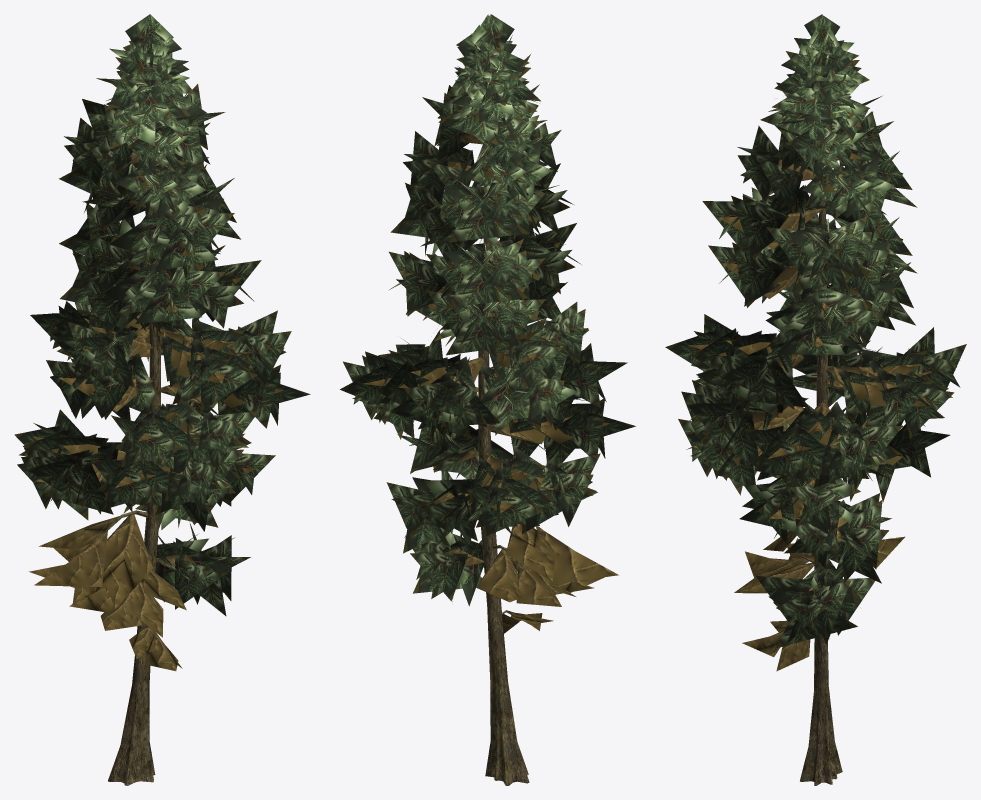
Rendered from PineBig2.fbx.
3 views of the same model, side by side, from view 1: azimuth 30°, elevation 25°; view 2: azimuth 150°, elevation 25°; view 3: azimuth 270°, elevation 25° (orthographic).
Parts seen in each view (by area): view 1: PineBig2_LOD0; view 2: PineBig2_LOD0; view 3: PineBig2_LOD0.
Boxes of the visible parts, x1,y1,x2,y2 form: PineBig2_LOD0: (14, 14, 310, 785); PineBig2_LOD0: (340, 14, 635, 785); PineBig2_LOD0: (665, 14, 966, 785).
Size of what is drawn, in the model's own units: 12.87 by 37.23 by 13.22.
